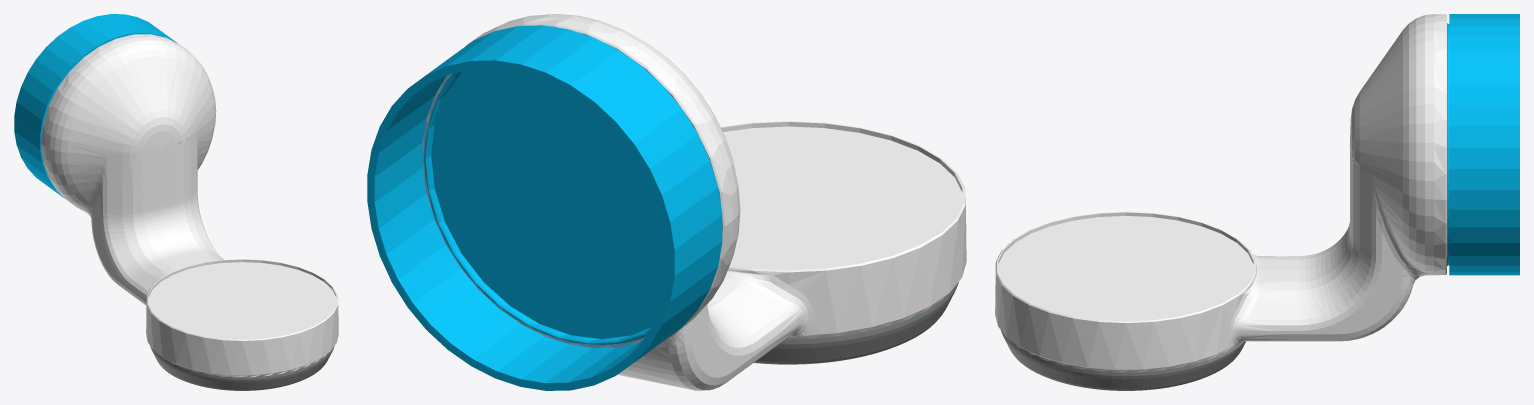
File: FetchLink5.dae
3 renders of one model, left to right at view 1: azimuth 30°, elevation 25°; view 2: azimuth 150°, elevation 25°; view 3: azimuth 270°, elevation 25°, orthographic. The views are drawn at different scales.
Parts seen in each view (by area): view 1: FetchLink5; view 2: FetchLink5; view 3: FetchLink5.
Boxes of the visible parts, x1=… form: FetchLink5: x1=14, y1=14, x2=338, y2=390; FetchLink5: x1=367, y1=14, x2=966, y2=390; FetchLink5: x1=995, y1=14, x2=1519, y2=390.
Bounding box in the file's own units: 0.104 × 0.2085 × 0.139.
